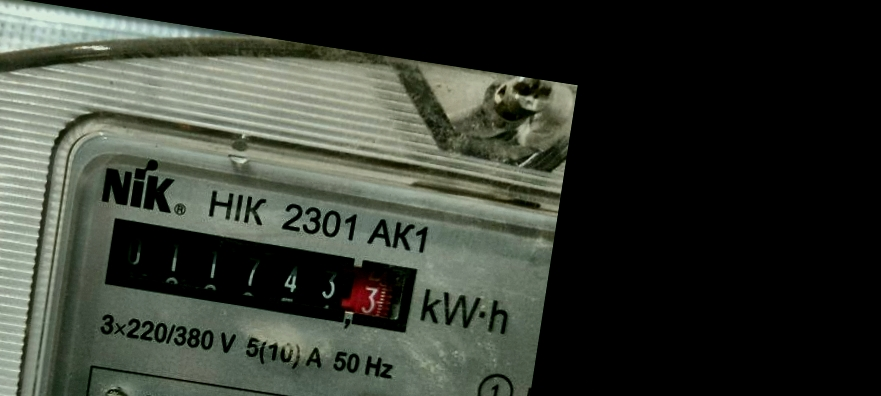0: (121, 231, 145, 269)
1: (203, 245, 223, 280), (167, 239, 181, 273)
3: (315, 265, 339, 302), (357, 283, 380, 319)
4: (279, 259, 301, 295)
7: (240, 252, 263, 289)
screen: (87, 204, 431, 347)
